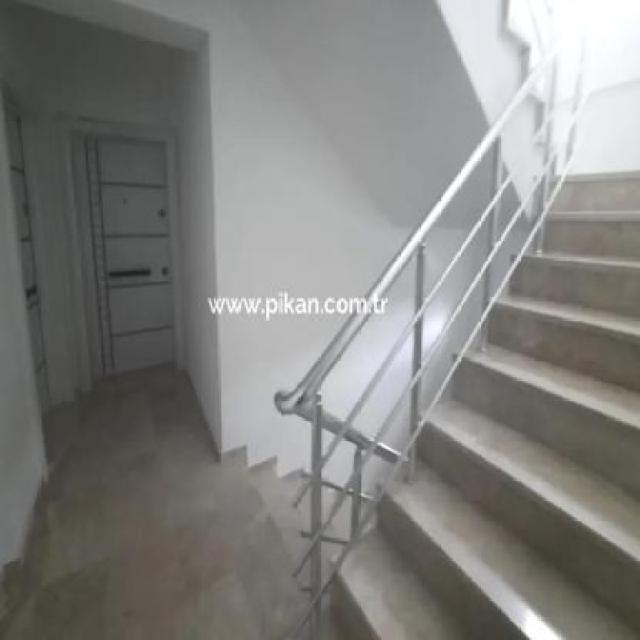stair: (306, 173, 640, 639), (464, 0, 568, 146)
